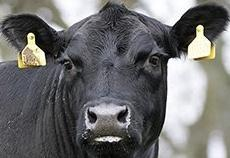muzzles: (81, 103, 134, 143)
